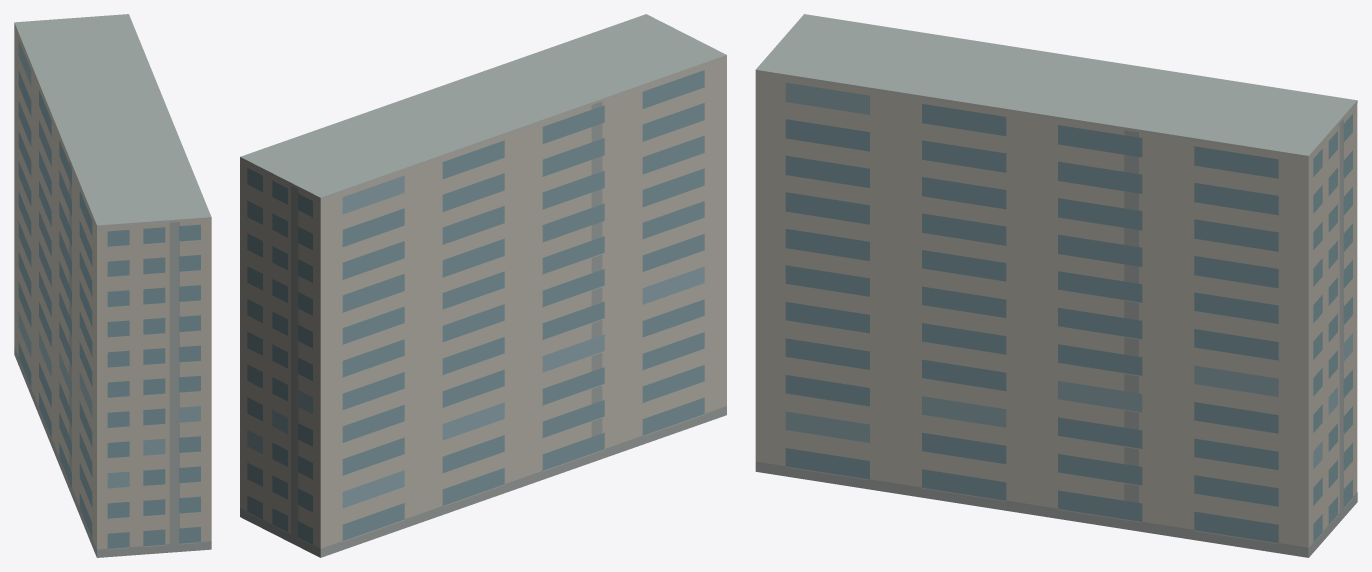
Rendered from residential-3f392012-6625-4782-8d38-86dfcf0679cf.glb.
The picture shows the model from 3 angles, left to right: view 1: azimuth 30°, elevation 25°; view 2: azimuth 150°, elevation 25°; view 3: azimuth 270°, elevation 25°; orthographic projection. The views are drawn at different scales.
Visible parts, largest first — view 1: residential-3f392012-6625-4782-8d38-86dfcf0679cf.tmp; view 2: residential-3f392012-6625-4782-8d38-86dfcf0679cf.tmp; view 3: residential-3f392012-6625-4782-8d38-86dfcf0679cf.tmp.
Part boxes in pixels (left/top/right/bottom): residential-3f392012-6625-4782-8d38-86dfcf0679cf.tmp: left=14, top=14, right=211, bottom=557; residential-3f392012-6625-4782-8d38-86dfcf0679cf.tmp: left=240, top=14, right=726, bottom=557; residential-3f392012-6625-4782-8d38-86dfcf0679cf.tmp: left=755, top=14, right=1357, bottom=557.
Bounding box in the file's own units: 25.76 × 34 × 46.15.
